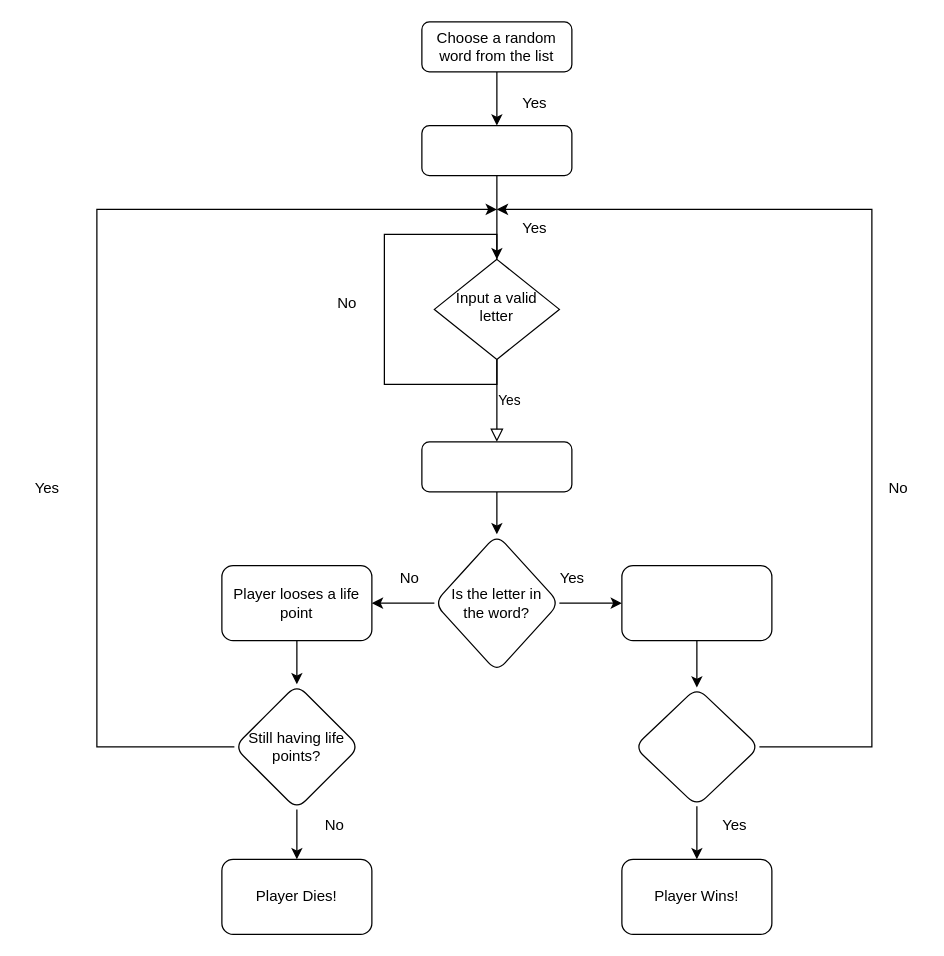
Some shapes in this 944 by 956 pixel diagram are drawn without their labels. Each missing label, with the centre of its shape:
Check if letter is in word: (496,466)
Is the word finished?: (696,746)
Show in which place is the letter located: (696,602)
Show word's letters as a '-': (496,150)
